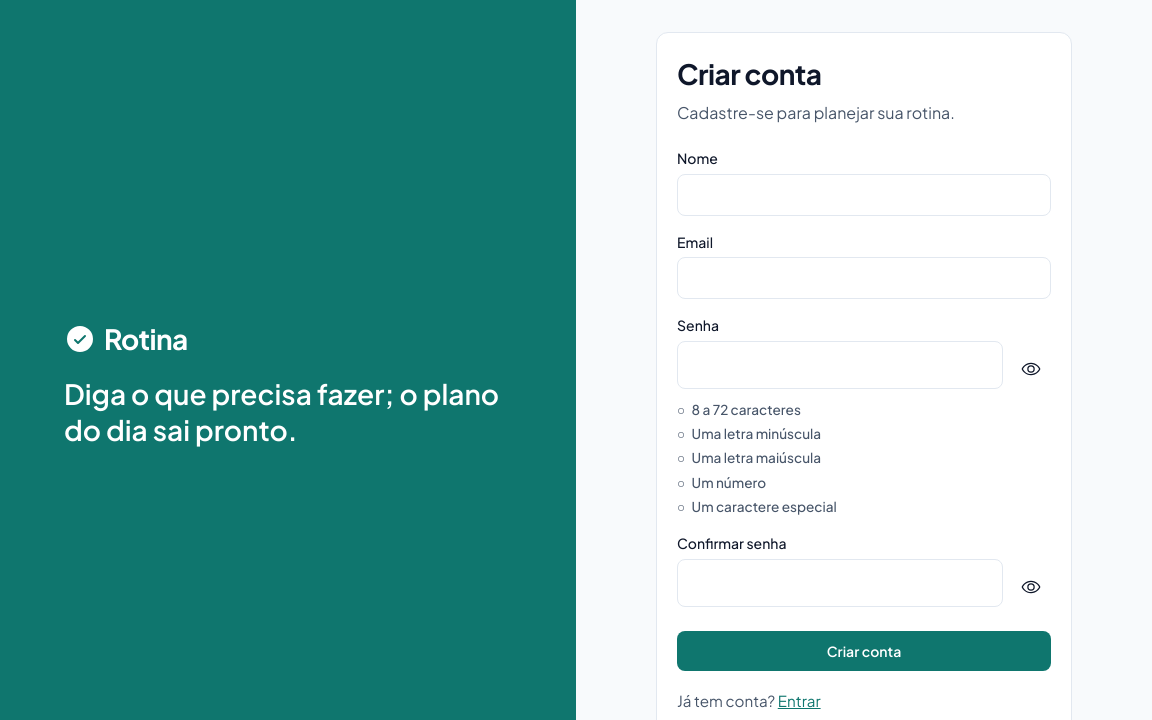
CadastroPage › mostra erro quando a senha é fraca
This screenshot has width=1152, height=720.
Type "Ana Silva" into the field labelled "Nome" at (864, 195), box [677,174,1051,216]
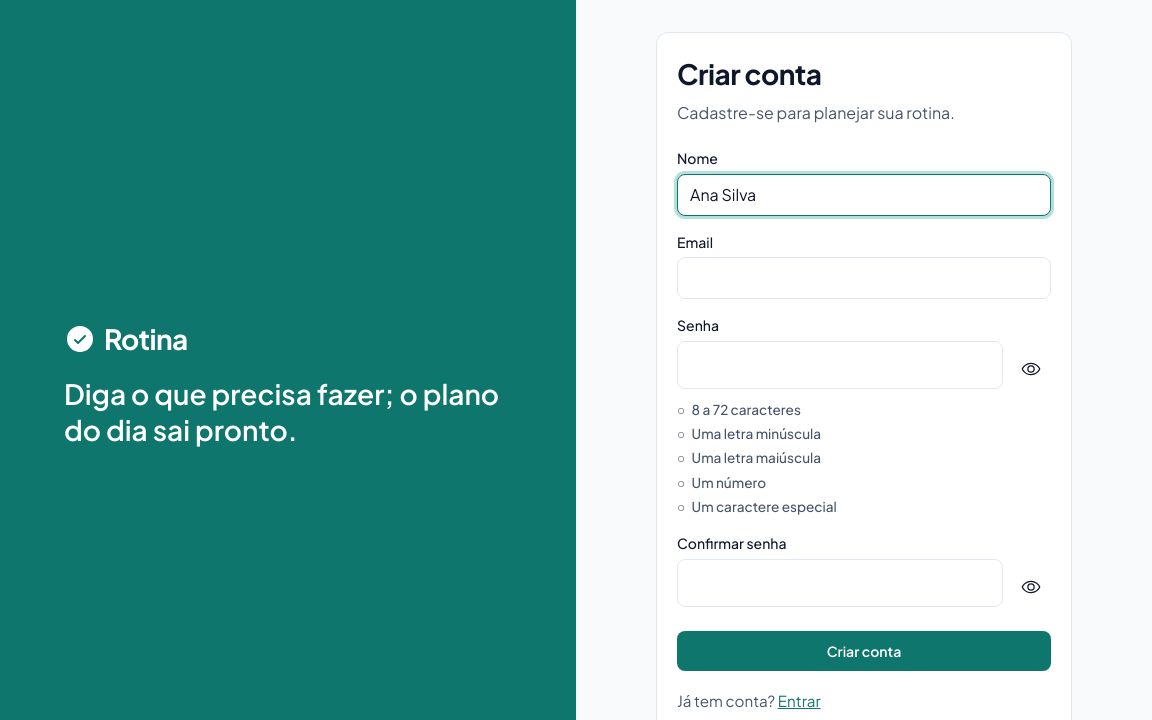
Type "ana@email.com" into the field labelled "Email" at (864, 278), box [677,257,1051,299]
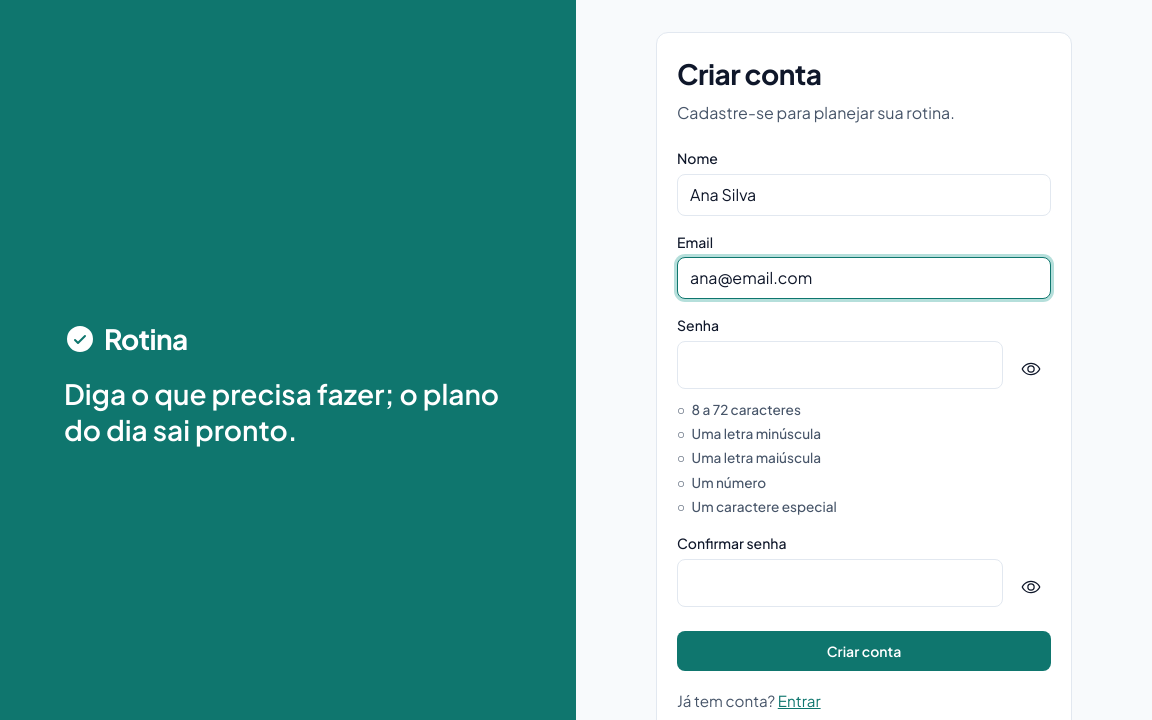
Type "fraca" into the password field labelled "Senha" at (840, 365), box [677,341,1003,389]
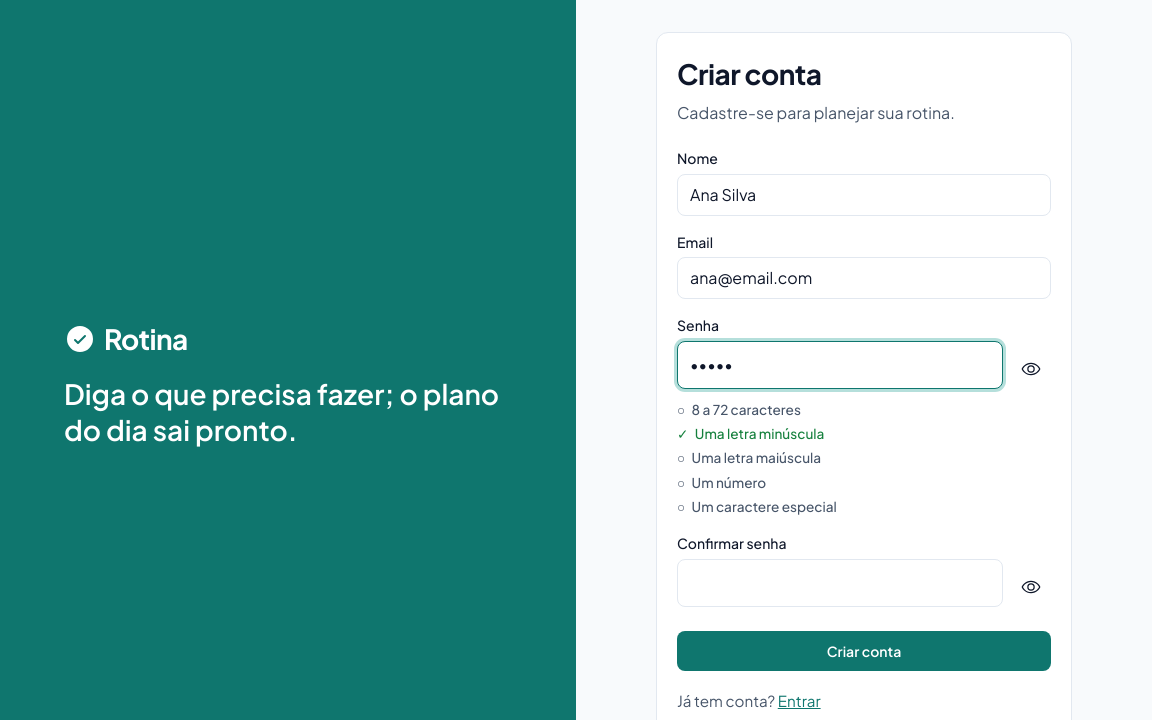
Type "fraca" into the password field labelled "Confirmar senha" at (840, 583), box [677,559,1003,607]
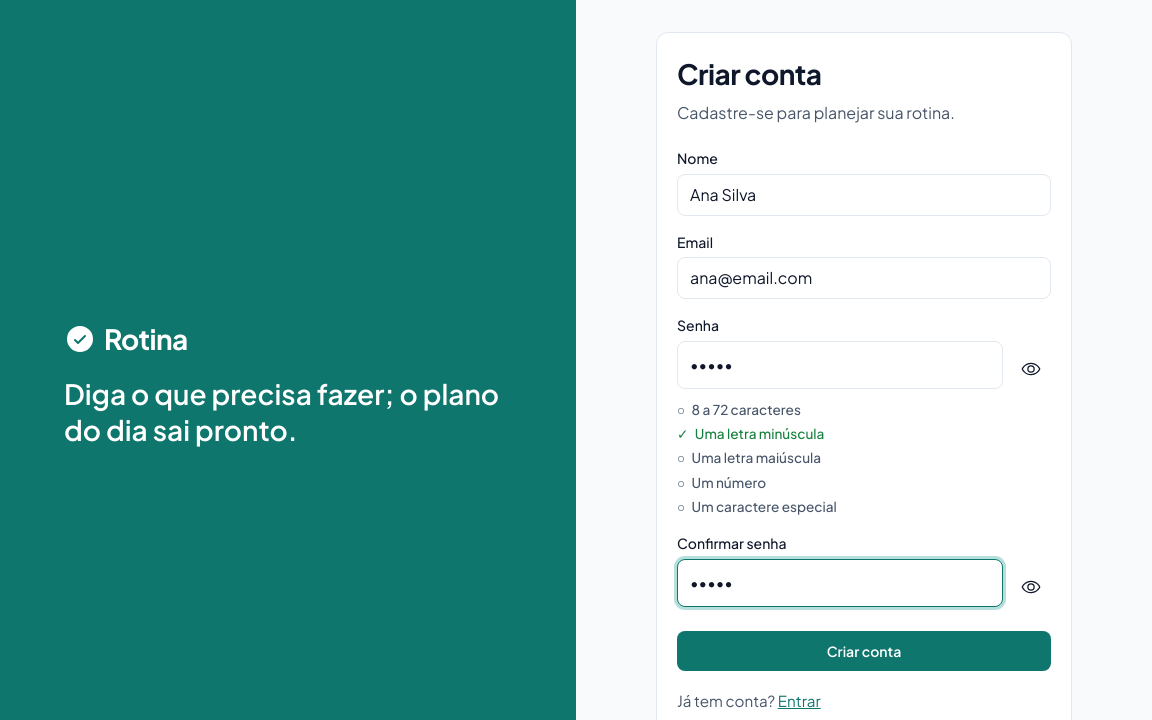
Click the button "Criar conta" at (864, 651), box [677,631,1051,671]
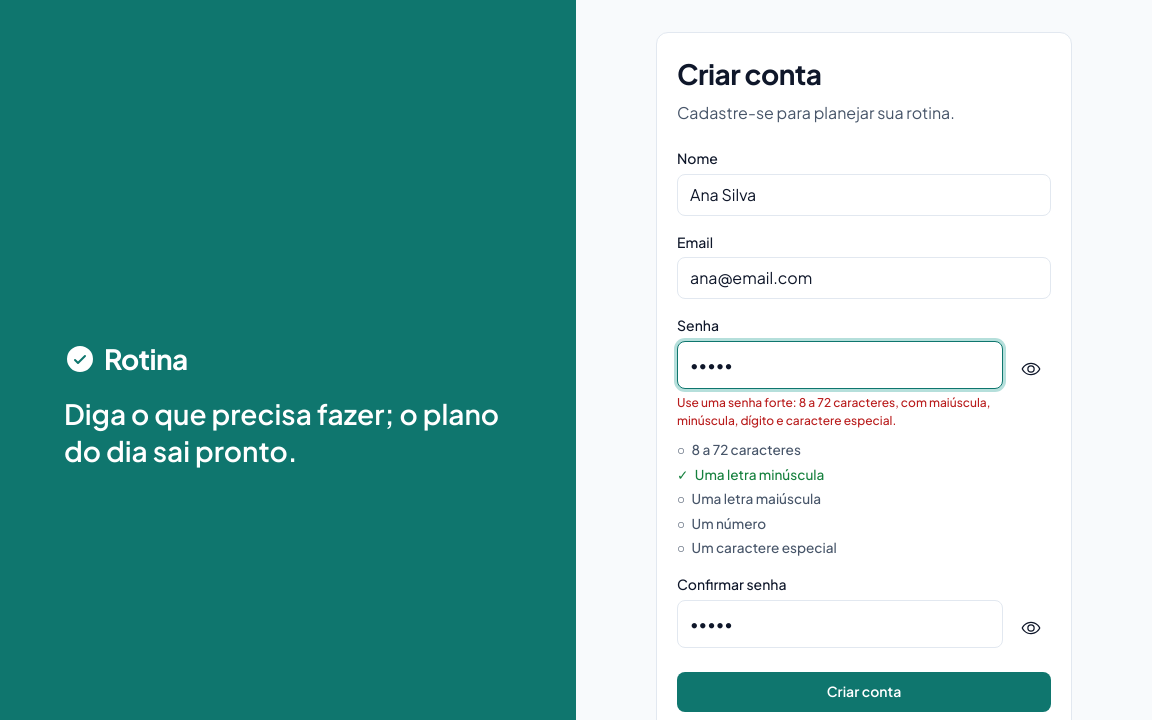
Expected: the message shows "senha forte", [677,395,990,428]
